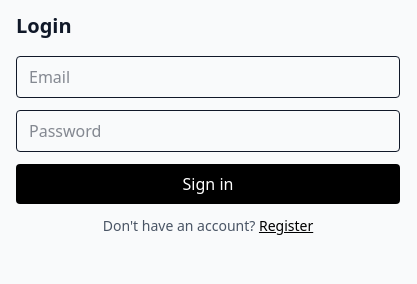
Login › should show error message on failed login
The width and height of the screenshot is (417, 284).
Type "test@example.com" into the field with placeholder "Email" at (208, 77), box [16,56,400,98]
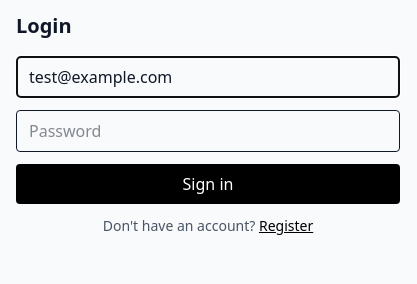
Type "wrongpassword" into the password field with placeholder "Password" at (208, 131), box [16,110,400,152]
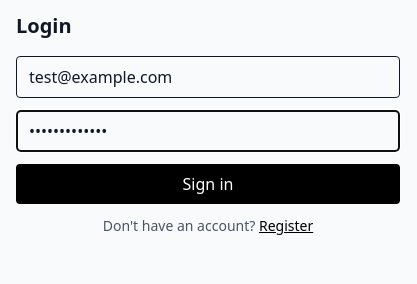
Click the button "Sign in" at (208, 184), box [16,164,400,204]
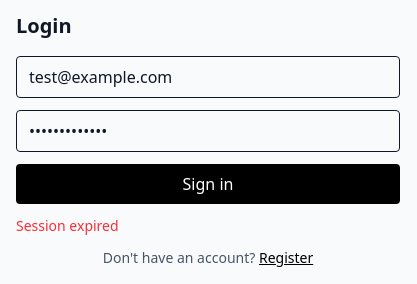
Check: the text "Session expired" is shown, box [16,216,119,235]
